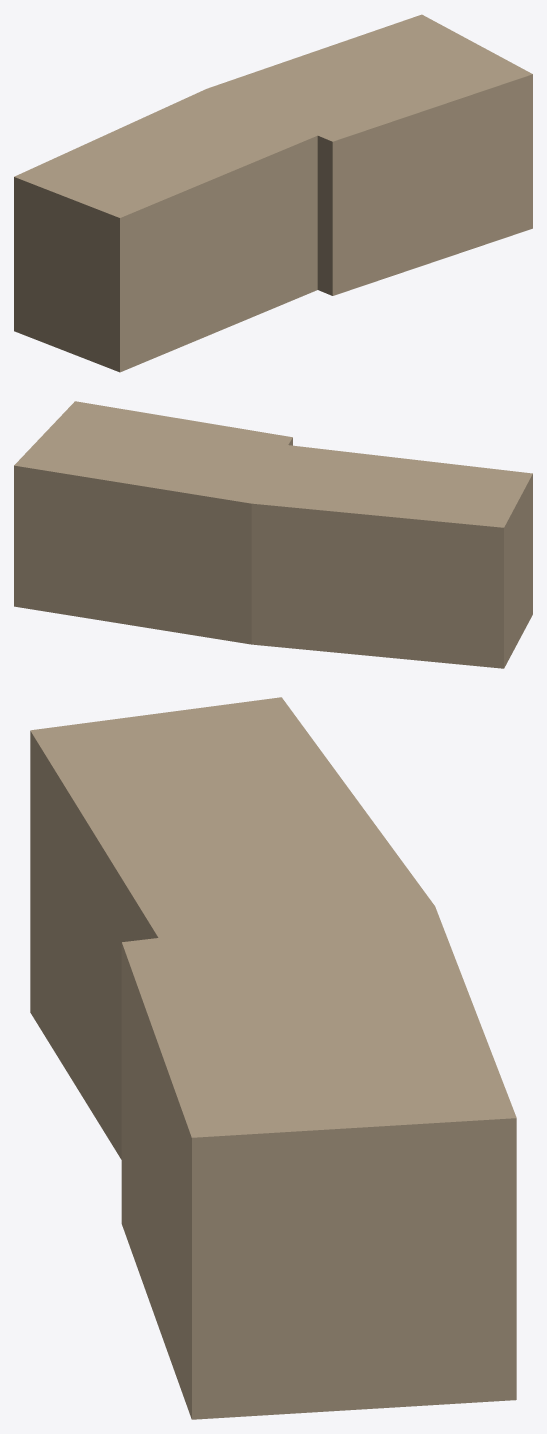
The model's file is bld_99739281.dae.
3 renders of one model, top to bottom at view 1: azimuth 30°, elevation 25°; view 2: azimuth 150°, elevation 25°; view 3: azimuth 270°, elevation 25°, orthographic. The views are drawn at different scales.
Parts seen in each view (by area): view 1: bld_99739281; view 2: bld_99739281; view 3: bld_99739281.
Boxes of the visible parts, x1,y1,x2,y2 form: bld_99739281: (14,14,532,372); bld_99739281: (14,401,532,668); bld_99739281: (30,697,516,1419).
Size of the model in its own units: 26.81 by 12.51 by 8.
